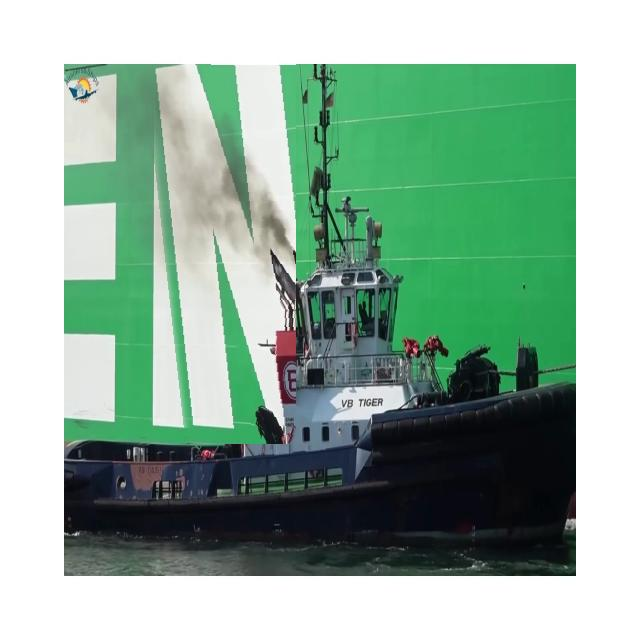OCR: (143, 61, 296, 444)
